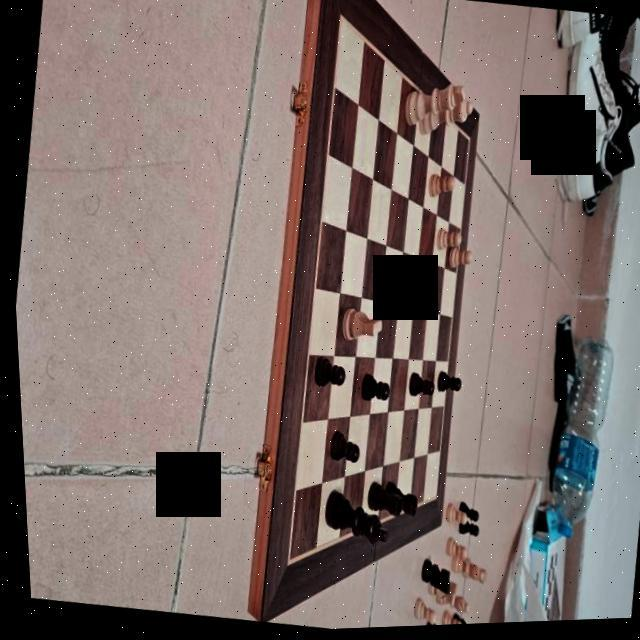chess-table-corners: (276, 550, 288, 574), (334, 11, 346, 32), (462, 136, 470, 150), (425, 495, 433, 508)
